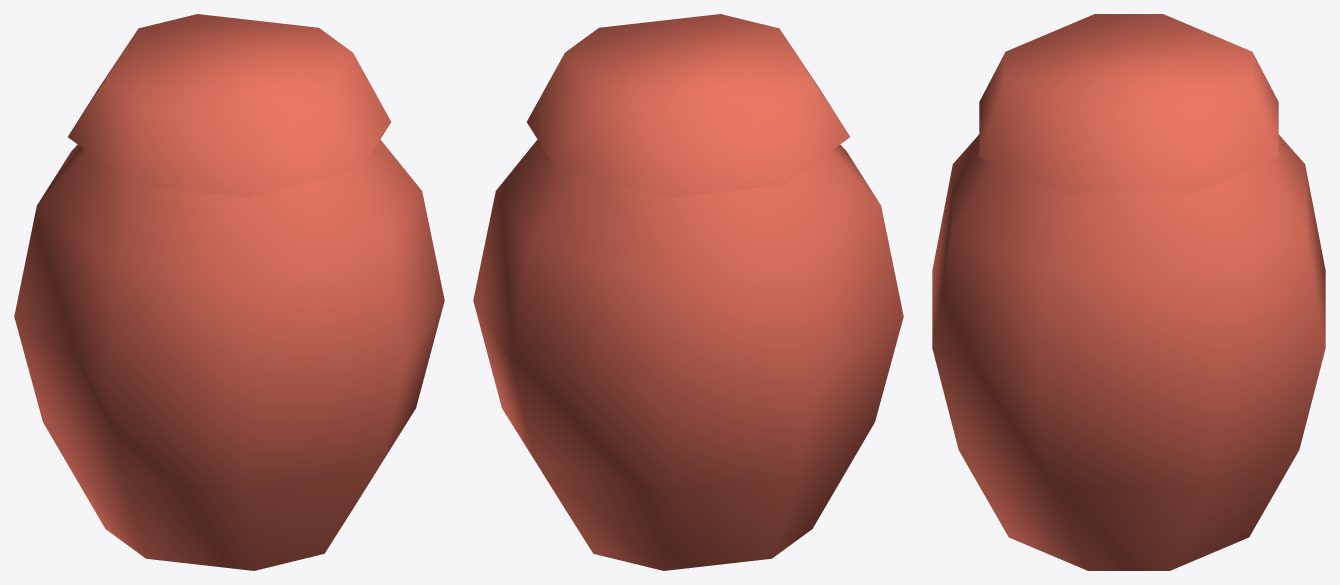
The model's file is Onggi_Med.fbx.
The picture shows the model from 3 angles, left to right: view 1: azimuth 30°, elevation 25°; view 2: azimuth 150°, elevation 25°; view 3: azimuth 270°, elevation 25°; orthographic projection.
Visible parts, largest first — view 1: Onggi_medium; view 2: Onggi_medium; view 3: Onggi_medium.
Part boxes in pixels (x1,y1,x2,y2): Onggi_medium: (14, 14, 444, 570); Onggi_medium: (473, 14, 903, 570); Onggi_medium: (932, 14, 1325, 570).
Size of the model in its own units: 37.98 by 48.36 by 37.98.
